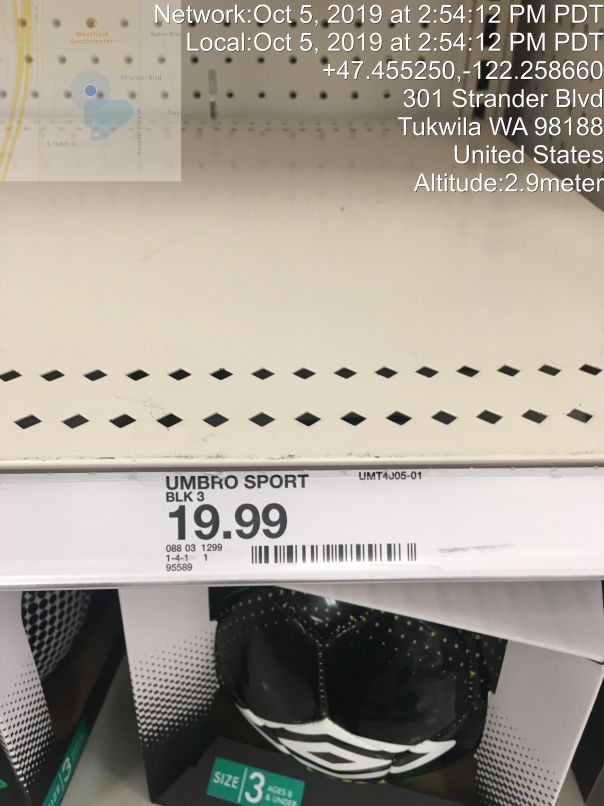Label: (156, 461, 434, 582)
Location: (388, 83, 604, 173)
Time: (149, 2, 604, 58)
Void: (22, 60, 573, 412)
